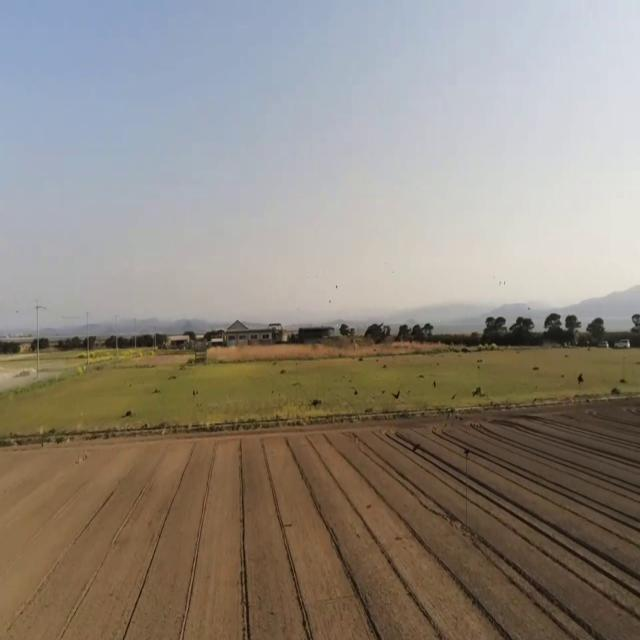bird: (392, 384, 400, 403)
